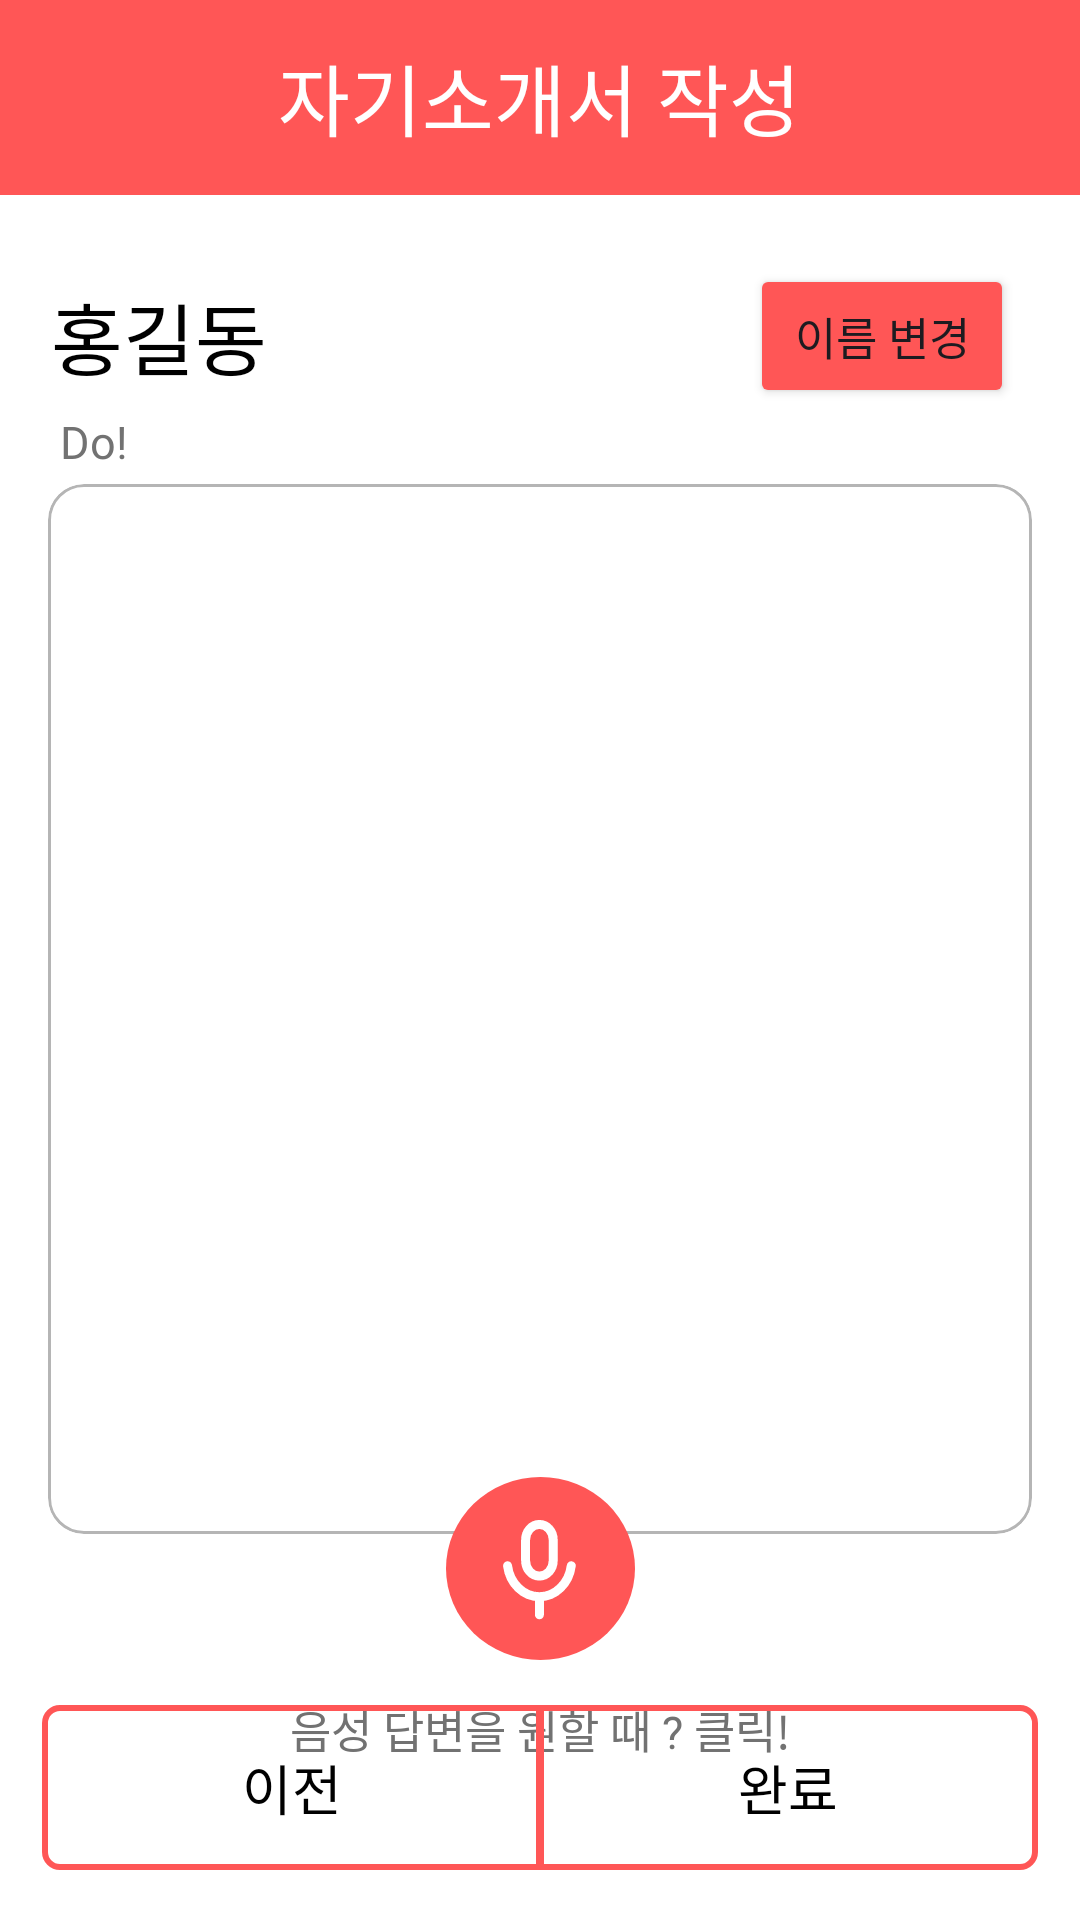

Icons on this 1080px×1920px Android screen, each with its box as (x1, y1, x2, y2):
mic: (446, 1477, 635, 1660)
